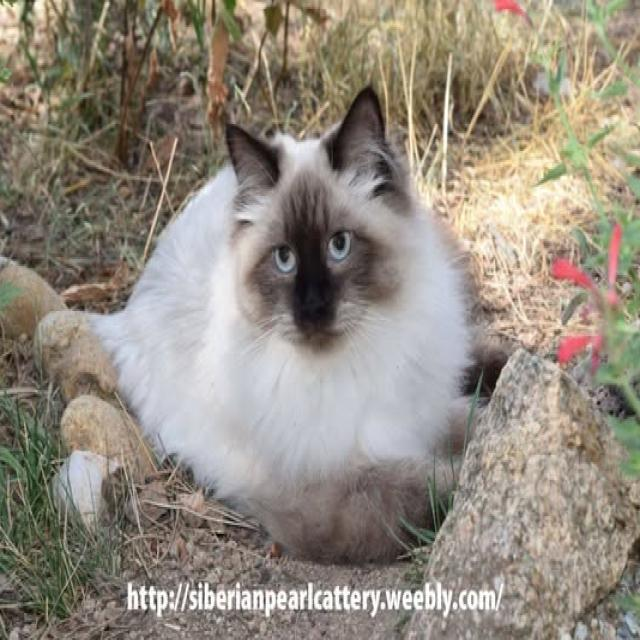Neva Masquerade: (80, 80, 487, 566)
